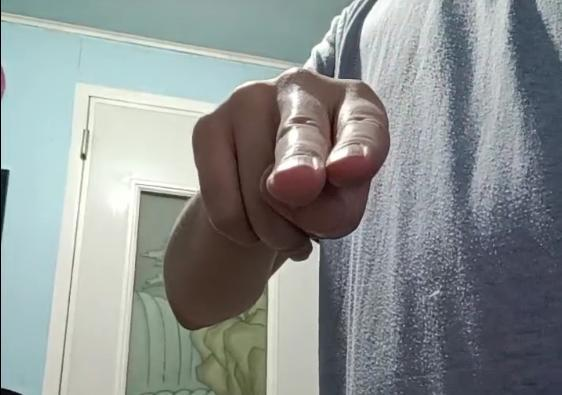n: (192, 69, 392, 263)
